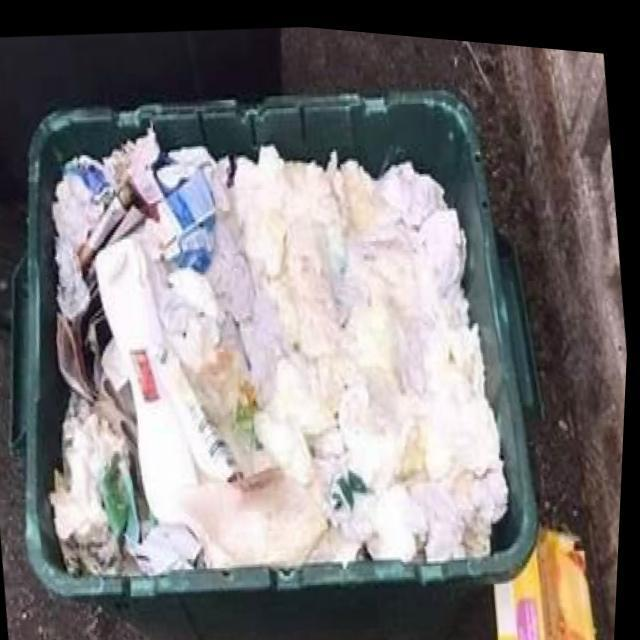Garbage: (45, 127, 522, 573)
